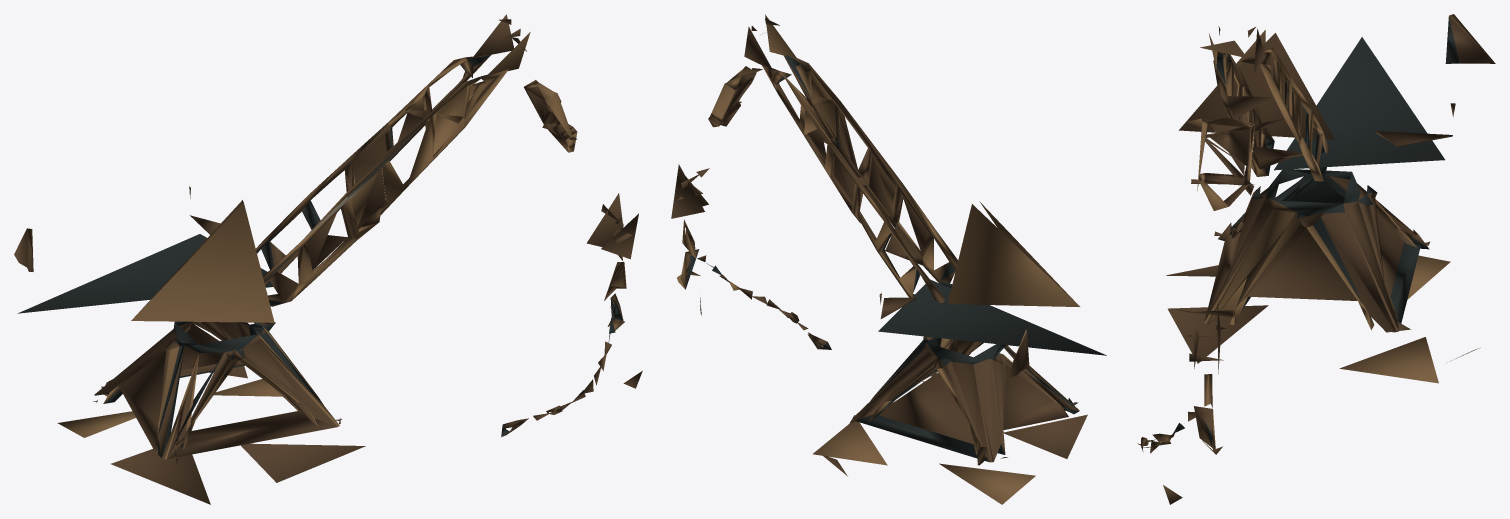
The model's file is boom_crane_wreck_a_lod2_tripo.glb.
3 renders of one model, left to right at view 1: azimuth 30°, elevation 25°; view 2: azimuth 150°, elevation 25°; view 3: azimuth 270°, elevation 25°, orthographic. The views are drawn at different scales.
Visible parts, largest first — view 1: Surface.001; view 2: Surface.001; view 3: Surface.001.
Boxes of the visible parts, <box> form: Surface.001: <box>14,14,642,504</box>; Surface.001: <box>671,14,1106,504</box>; Surface.001: <box>1137,14,1495,504</box>.
Bounding box in the file's own units: 6.76 × 4.49 × 3.33.
